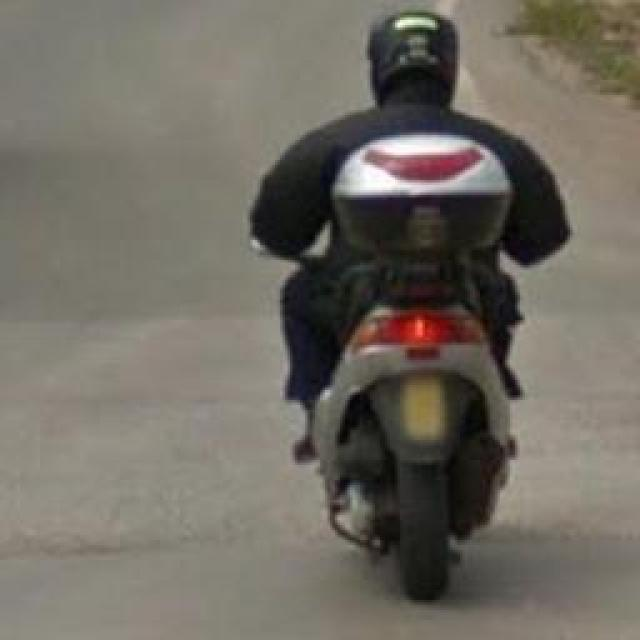motorbike: (226, 0, 585, 628)
